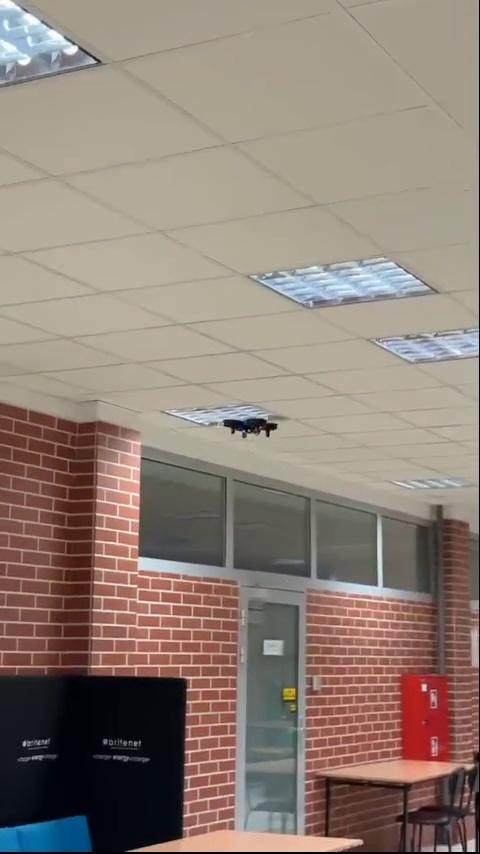drone: (219, 414, 279, 436)
